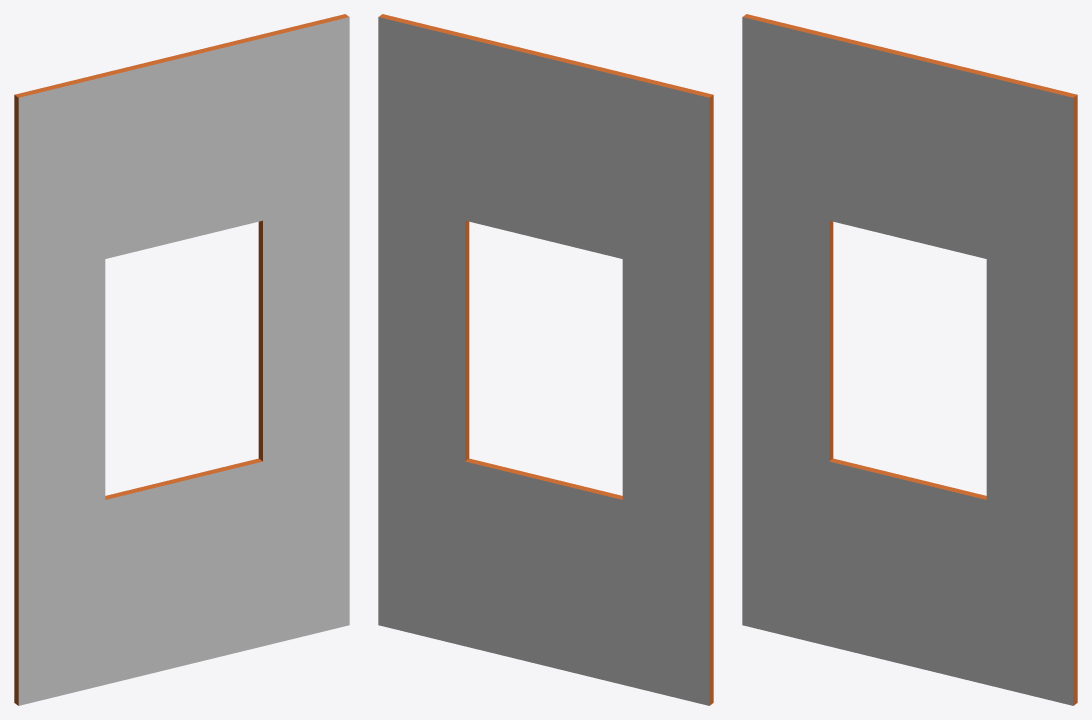
File: Wall2.fbx
3 views of the same model, side by side, from view 1: azimuth 30°, elevation 25°; view 2: azimuth 150°, elevation 25°; view 3: azimuth 330°, elevation 25° (orthographic).
Parts seen in each view (by area): view 1: Wall.6; view 2: Wall.6; view 3: Wall.6.
Boxes of the visible parts, box(x1,y1,x2,y2) form: Wall.6: box(14, 14, 349, 705); Wall.6: box(378, 14, 713, 705); Wall.6: box(742, 14, 1077, 705).
Bounding box in the file's own units: 200 × 351 × 4.39.
